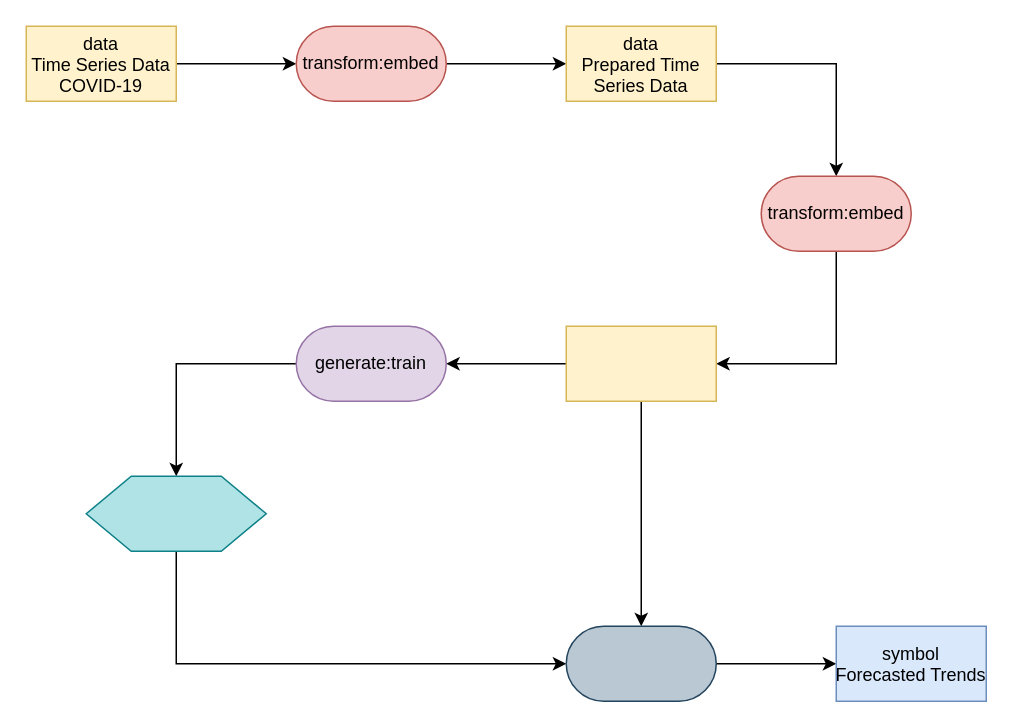
Image size: 1013x728. Some labels were removed from this diagram. The shapes that lost their labels are listed below. From the top down, each one's centre as x and y in pixels, then its label:
At (x=640, y=363): "data Fractal Dimensions".
At (x=175, y=513): "model:semantic Fuzzy Logic Model".
At (x=640, y=663): "infer:deduce".
